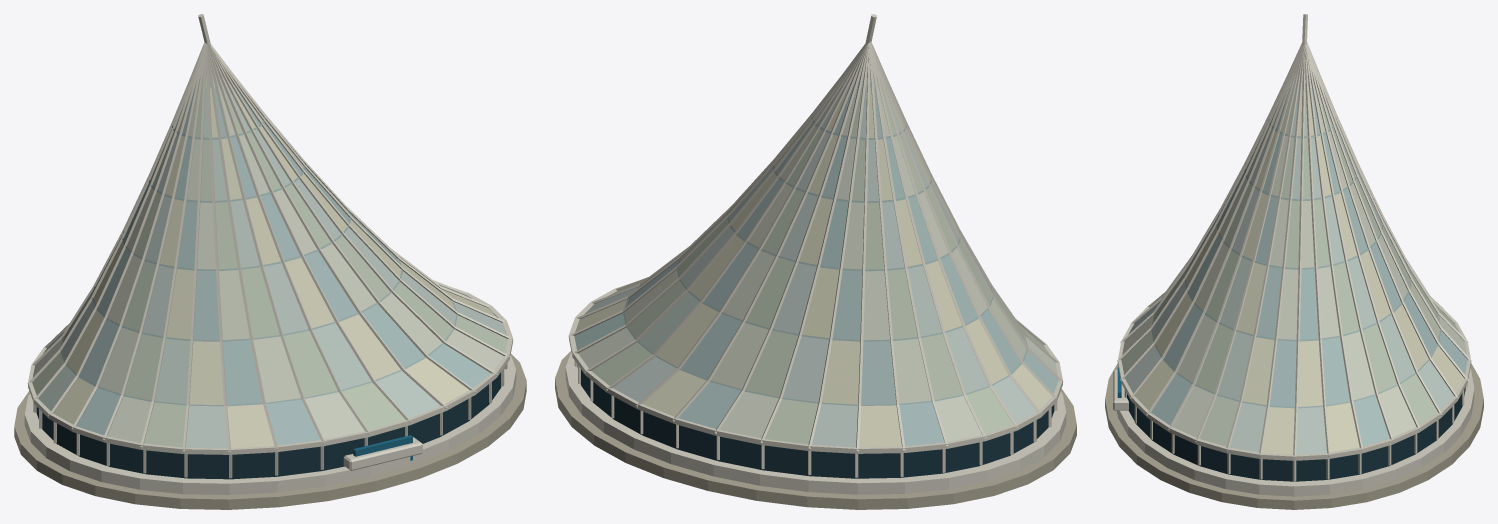
The model's file is khan-shatyr.glb.
3 renders of one model, left to right at view 1: azimuth 30°, elevation 25°; view 2: azimuth 150°, elevation 25°; view 3: azimuth 270°, elevation 25°, orthographic. The views are drawn at different scales.
Visible parts, largest first — view 1: khan-shatyr; view 2: khan-shatyr; view 3: khan-shatyr.
Boxes of the visible parts, box(x1,y1,x2,y2) form: khan-shatyr: box(14, 14, 526, 509); khan-shatyr: box(555, 14, 1076, 509); khan-shatyr: box(1105, 14, 1483, 509).
Bounding box in the file's own units: 5.6 × 4.7 × 4.4.
